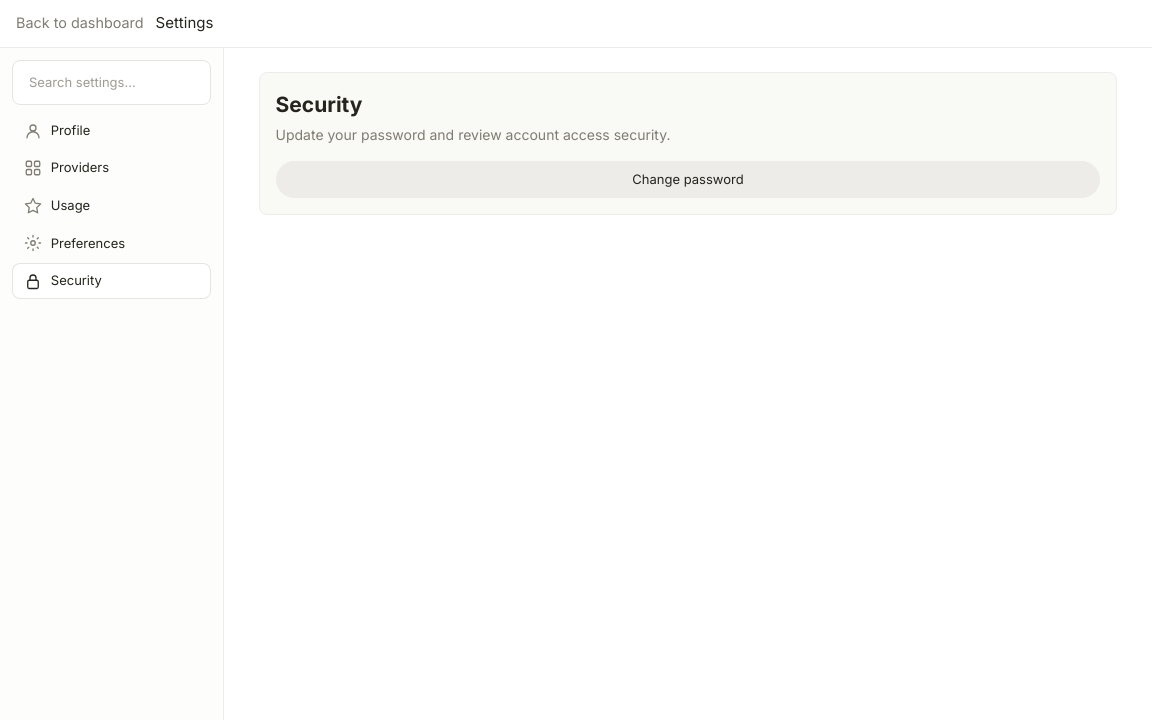
SettingsSurface › expands change-password only after clicking the action
Check: the field labelled "Current password" is not shown
Click the button with test id "settings-change-password-expand" at (688, 180), box [276,161,1100,198]
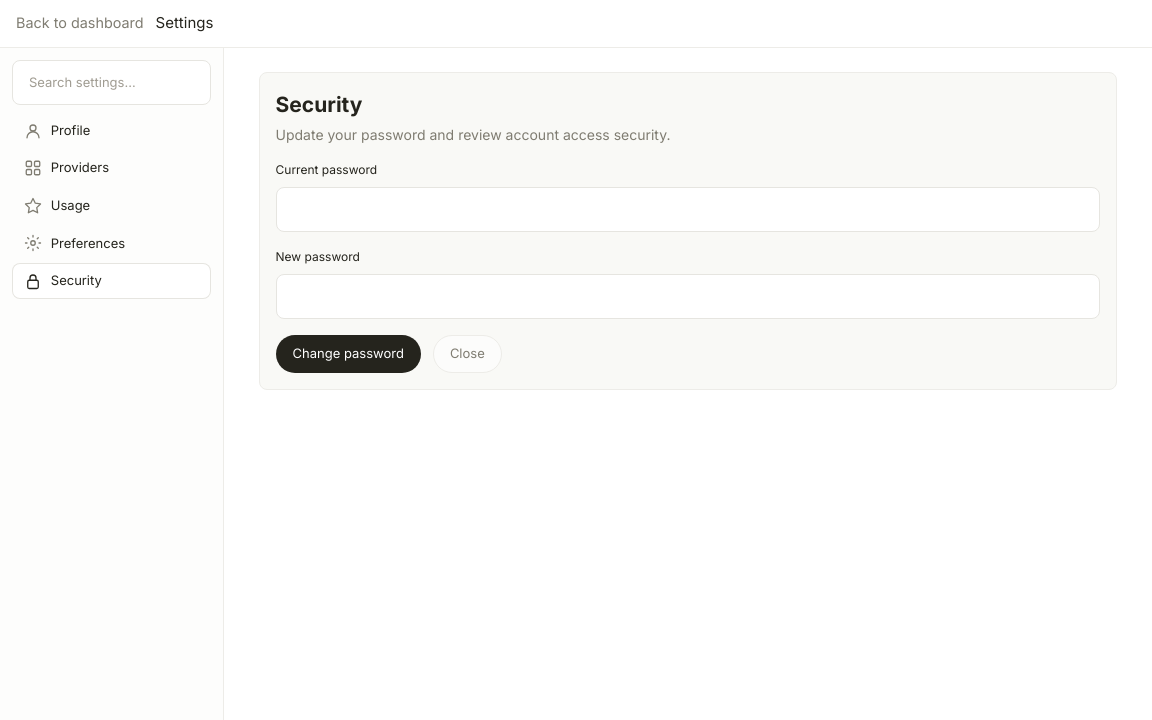
Check: the password field labelled "Current password" is shown, box [276,187,1100,232]
